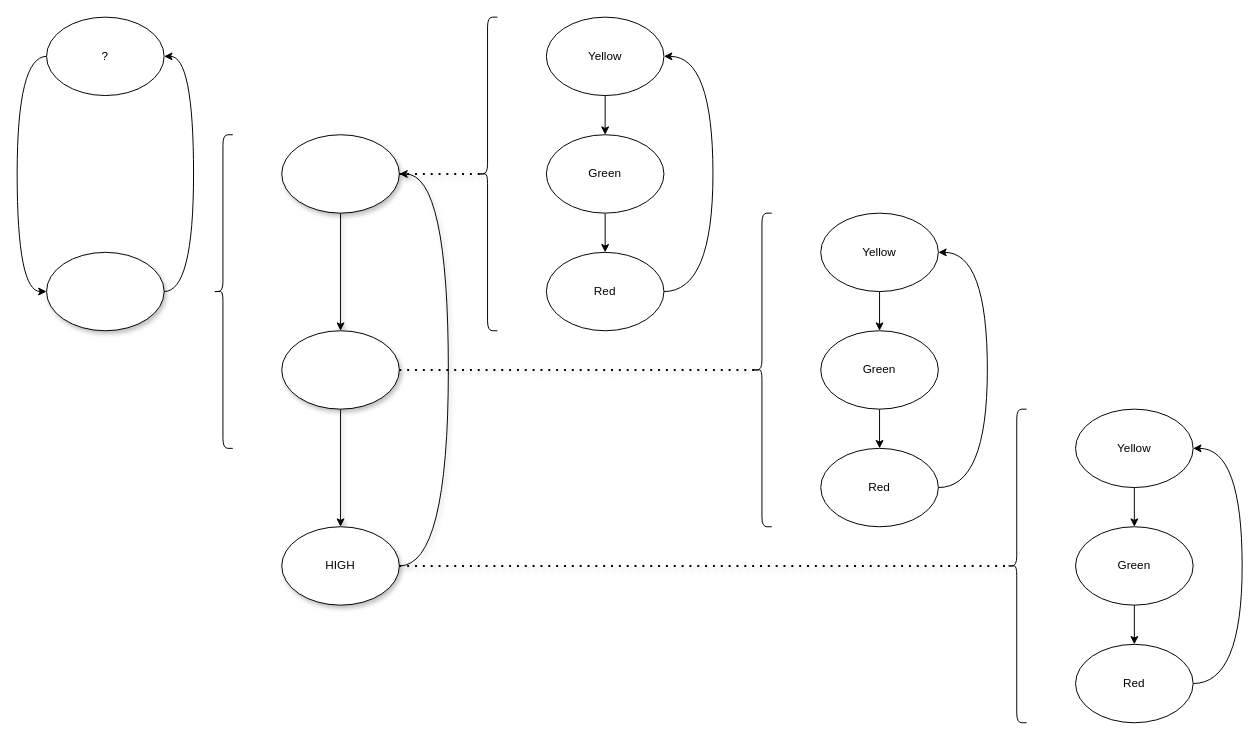
Image size: 1259x740. Some labels were removed from this diagram. Each missing label, with the centre of its shape:
"LOW" belongs at point (341, 175).
"MID" belongs at point (341, 371).
"ON" belongs at point (106, 292).
